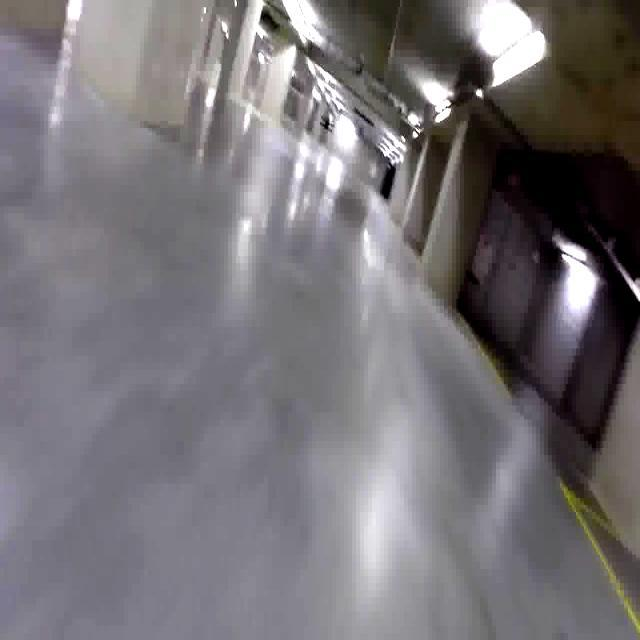drone: (318, 104, 338, 142)
